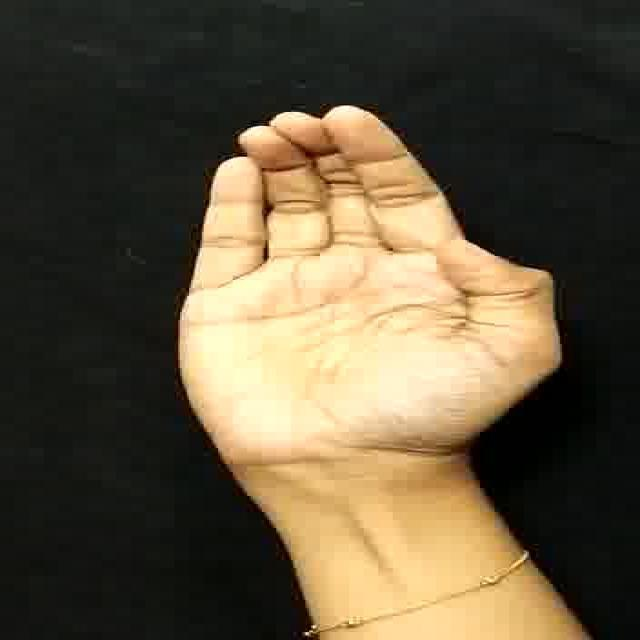sarpsheesh: (120, 77, 600, 516)
